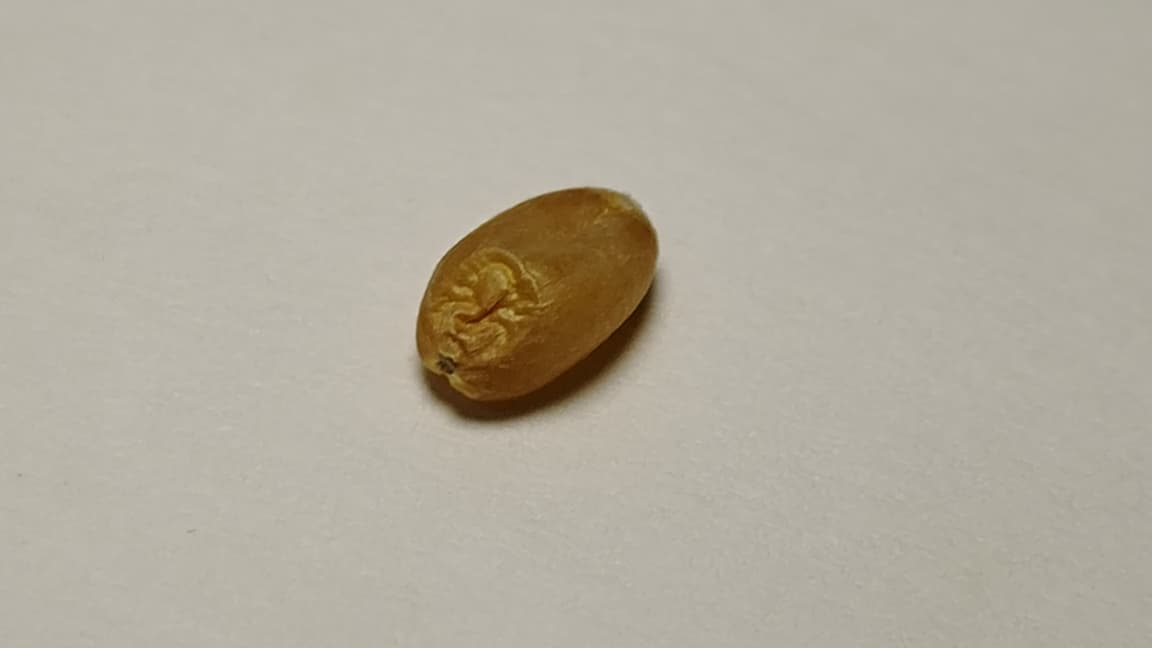healthy: (417, 186, 656, 394)
